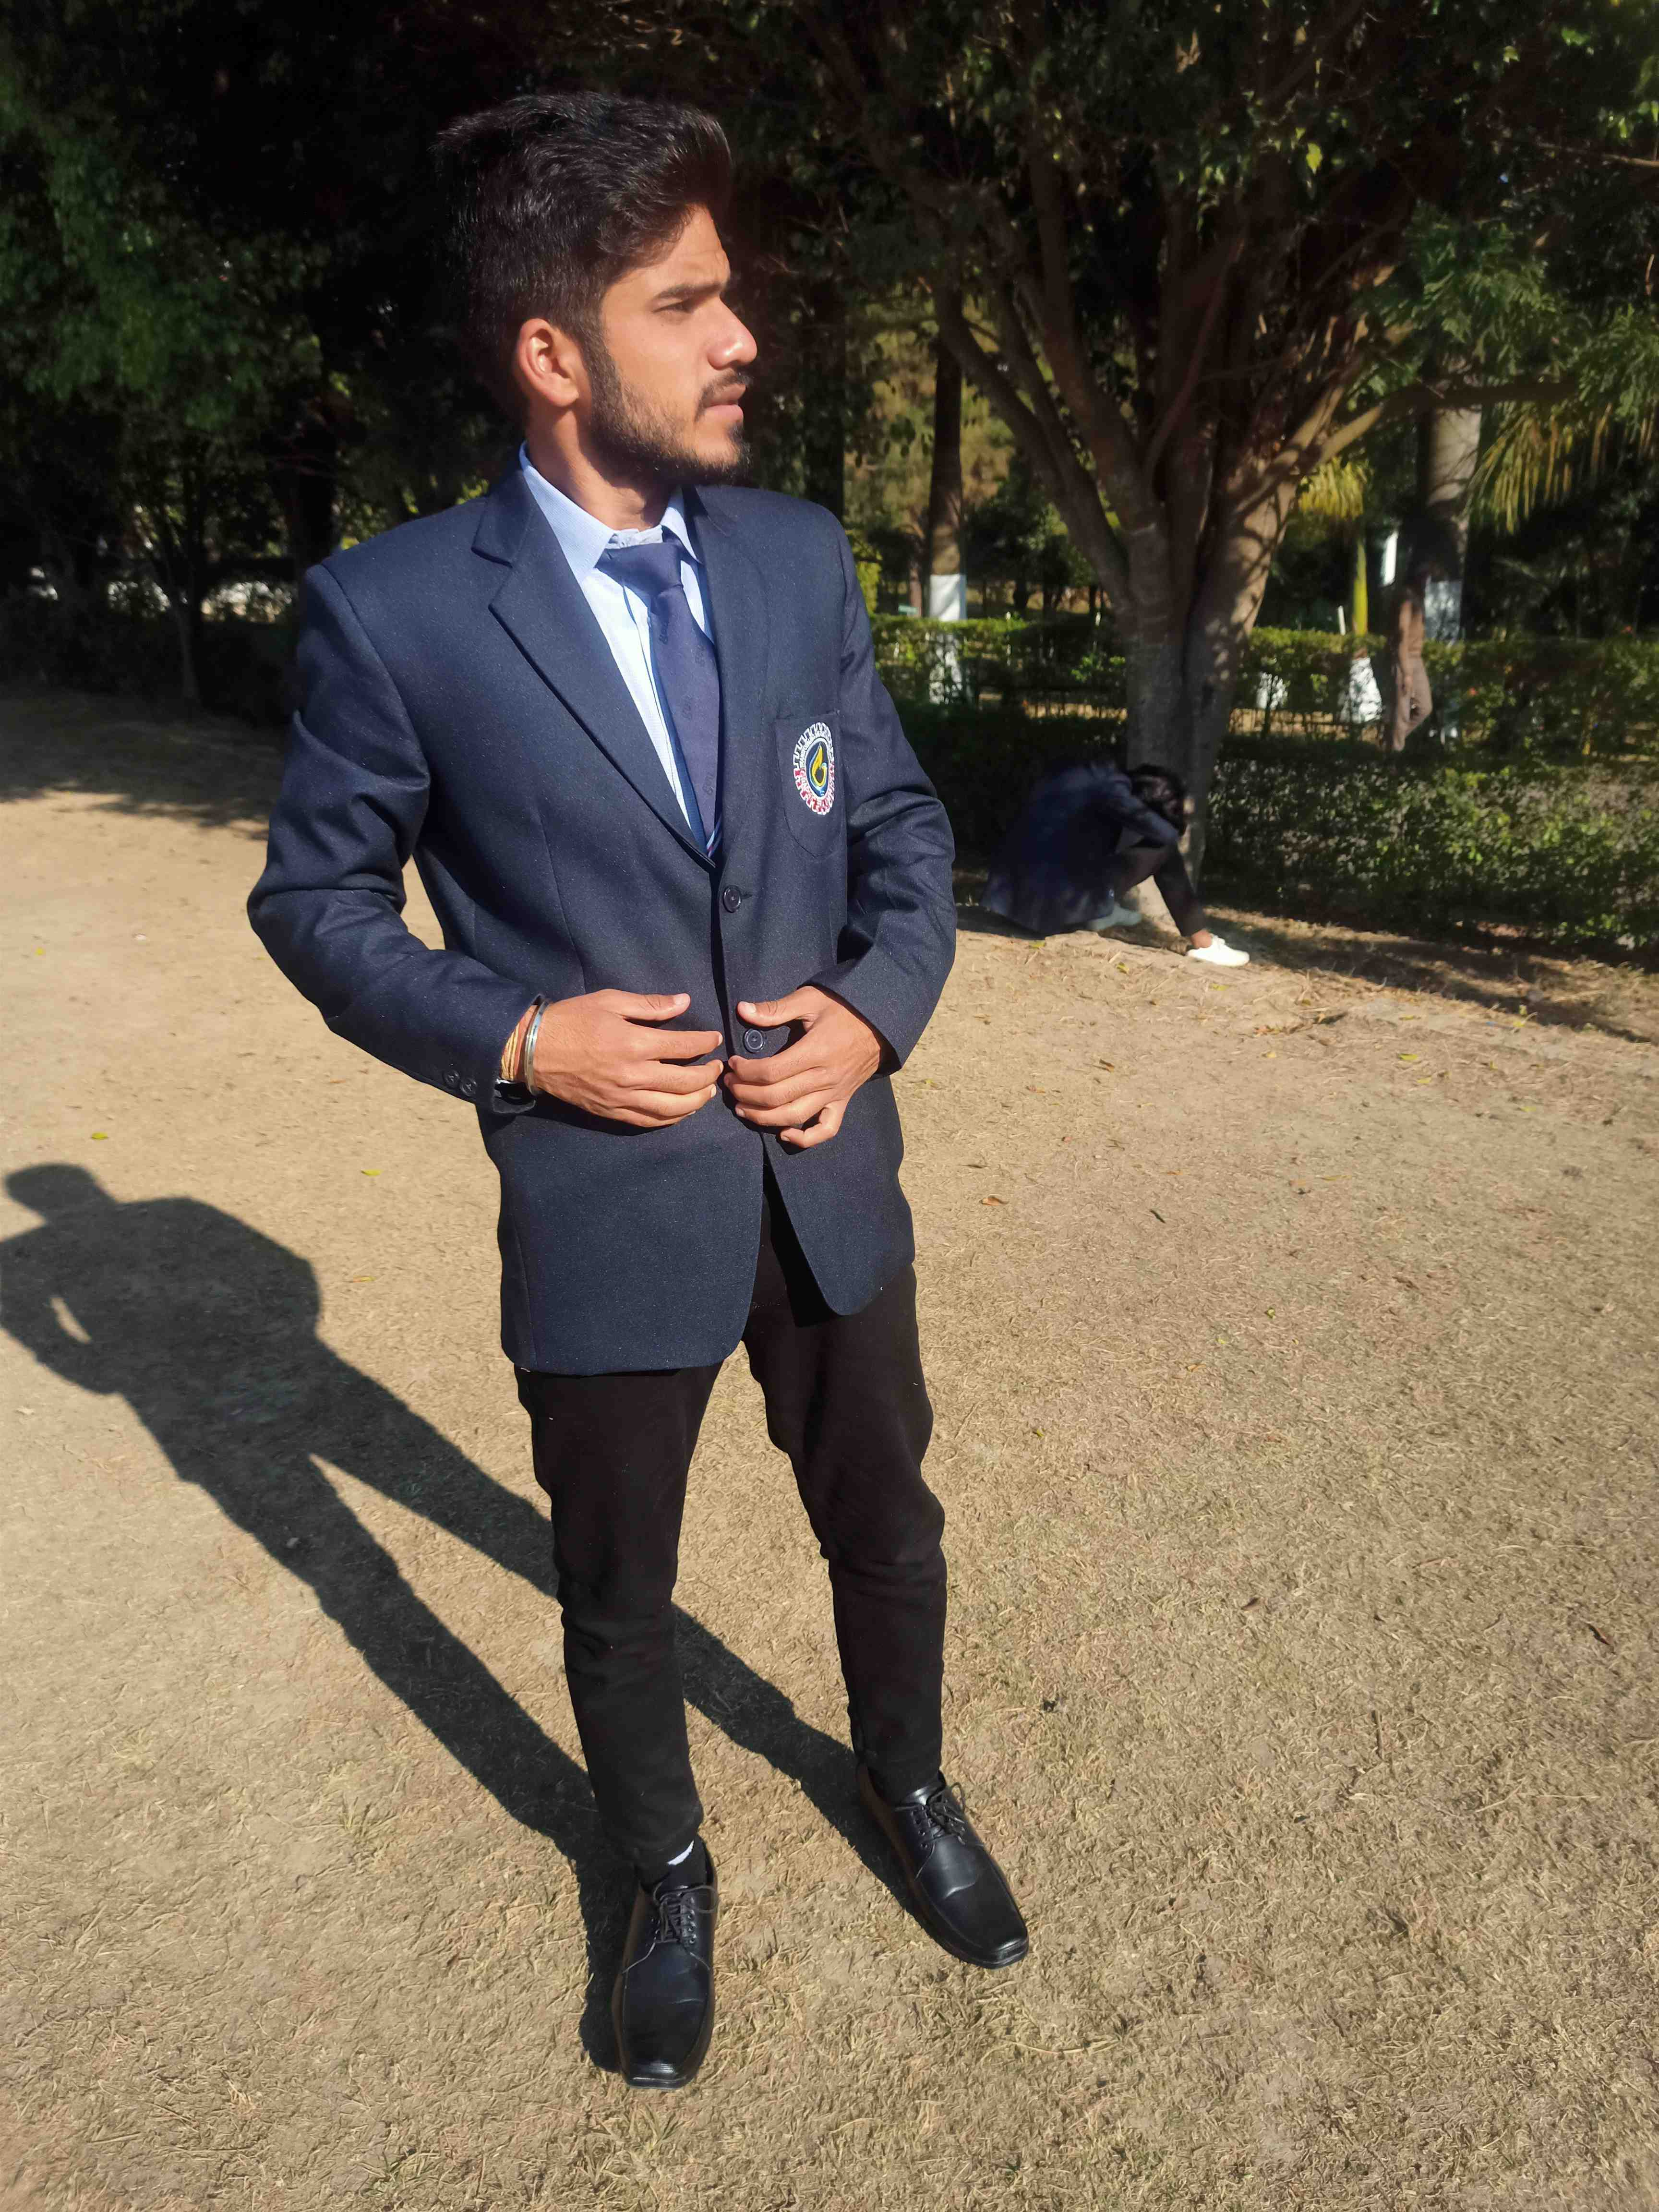blazer: (253, 477, 985, 1346)
tie: (592, 528, 737, 859)
